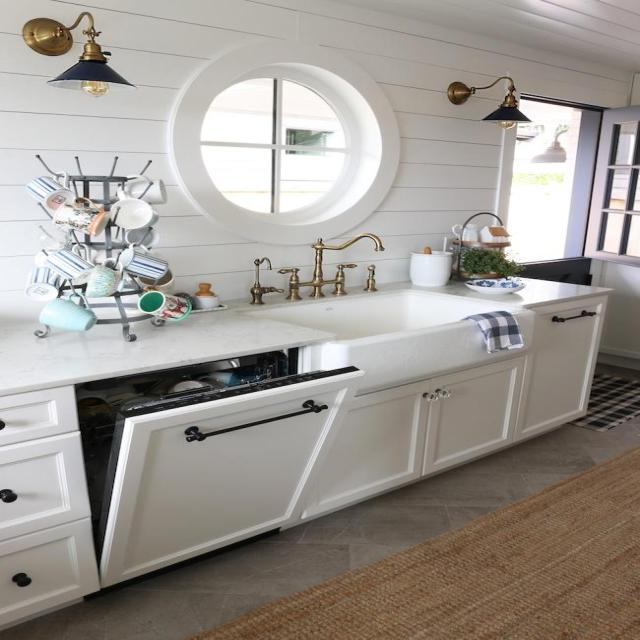dishwasher: (57, 325, 342, 592)
